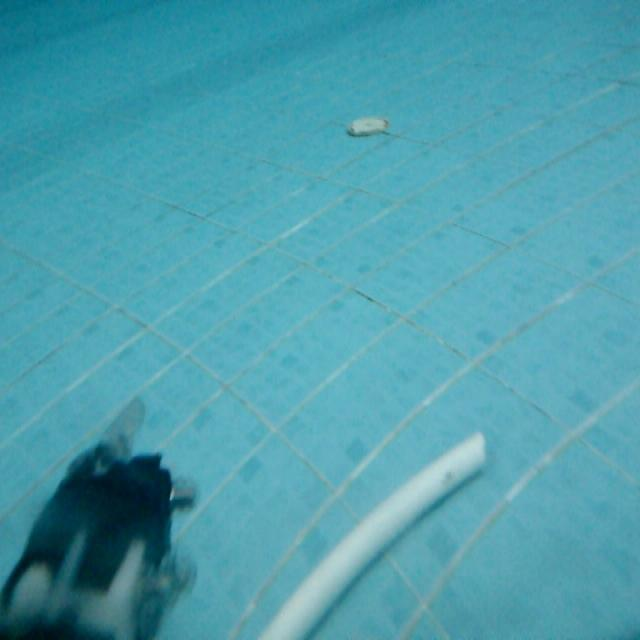Cube: (236, 425, 489, 639)
